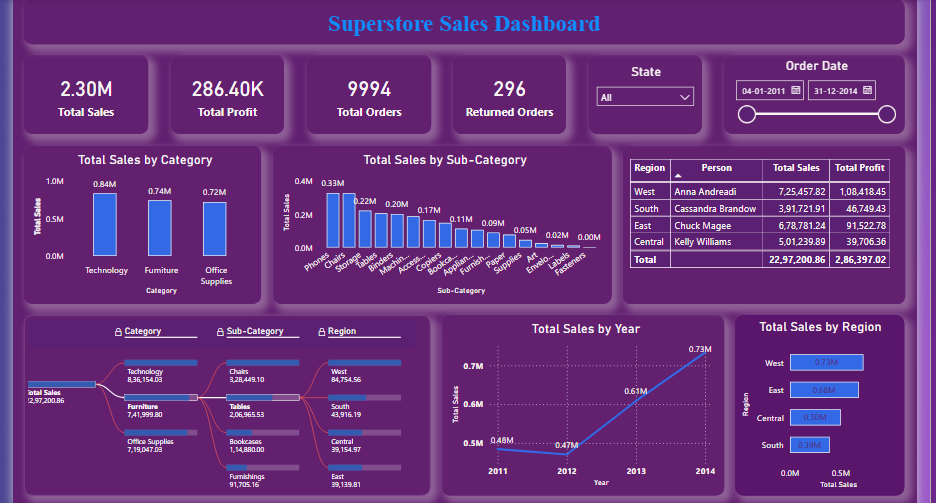

This screenshot's page, from the dashboard's own definition file:
{"tool":"powerbi","page":{"name":"Page 1","canvas":[1280,720],"ordinal":0},"visuals":[{"type":"card","fields":{"Values":["Orders.Total Sales"]},"box":[16,80,176,112],"z":0},{"type":"card","fields":{"Values":["Orders.Total Profit"]},"box":[224,80,160,112],"z":1000},{"type":"card","fields":{"Values":["Orders.Total Orders"]},"box":[416,80,176,112],"z":2000},{"type":"card","fields":{"Values":["Orders.Returned Orders"]},"box":[624,80,160,112],"z":3000},{"type":"clusteredColumnChart","fields":{"Category":["Orders.Sub-Category"],"Y":["Orders.Total Sales"]},"box":[368,208,480,224],"z":4000},{"type":"lineChart","fields":{"Y":["Orders.Total Sales"],"Category":["Date.Year"]},"box":[608,448,400,256],"z":5000},{"type":"tableEx","fields":{"Values":["People.Region","People.Person","Orders.Total Sales","Orders.Total Profit"]},"box":[864,208,400,224],"z":6000},{"type":"slicer","title":"Order Date","fields":{"Values":["Orders.Order Date"]},"box":[1008,80,256,112],"z":8000},{"type":"clusteredColumnChart","fields":{"Category":["Orders.Category"],"Y":["Orders.Total Sales"]},"box":[16,208,336,224],"z":10000},{"type":"slicer","title":"State","fields":{"Values":["Orders.State"]},"box":[816,80,160,112],"z":11000},{"type":"textbox","box":[16,0,1248,64],"z":12000},{"type":"clusteredBarChart","fields":{"Y":["Orders.Total Sales"],"Category":["Orders.Region"]},"box":[1024,448,240,256],"z":13000},{"type":"decompositionTreeVisual","fields":{"ExplainBy":["Orders.Category","Orders.Sub-Category","Orders.Region"],"Analyze":["Orders.Total Sales"]},"box":[16,448,576,256],"z":14001}]}

Visuals, with their boxes on the page's 1280x720 design canvas (x1, y1, x2, y2). These are canvas units, not pixel positions in the 936x503 screenshot, which may show the page scaled, cropped or inside an application window:
card - Orders.Total Sales: 16:80:192:192
card - Orders.Total Profit: 224:80:384:192
card - Orders.Total Orders: 416:80:592:192
card - Orders.Returned Orders: 624:80:784:192
clusteredColumnChart - Orders.Sub-Category x Orders.Total Sales: 368:208:848:432
lineChart - Orders.Total Sales x Date.Year: 608:448:1008:704
tableEx - People.Region x People.Person: 864:208:1264:432
"Order Date" slicer: 1008:80:1264:192
clusteredColumnChart - Orders.Category x Orders.Total Sales: 16:208:352:432
"State" slicer: 816:80:976:192
textbox: 16:0:1264:64
clusteredBarChart - Orders.Total Sales x Orders.Region: 1024:448:1264:704
decompositionTreeVisual - Orders.Category x Orders.Sub-Category: 16:448:592:704
